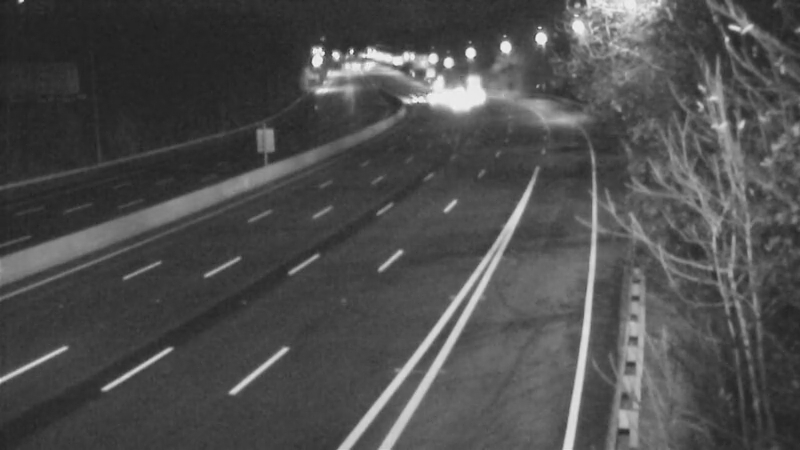vehicle: (453, 62, 503, 112), (409, 61, 459, 111), (445, 70, 495, 120), (427, 79, 477, 129), (389, 73, 439, 123)
